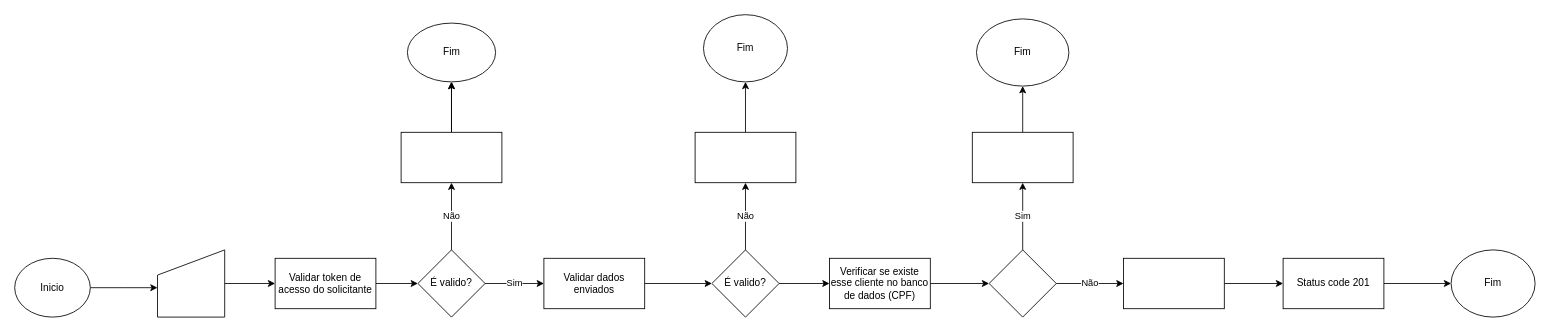
Image size: 1550x334. Some labels were removed from this diagram. Each missing label, with the centre of its shape:
"Exibir dado não válido e pedir correção. Status code 400" belongs at point 745,157.
"Exibir mensagem de erro, cliente já existe, Status code 406" belongs at point 1022,157.
"Exibir mensagem de erro. Status code 401" belongs at point 451,157.
"Existe?" belongs at point 1022,283.
"Gravo os dados do usuário no banco de dados." belongs at point 1173,283.
"POST /user" belongs at point 191,283.
